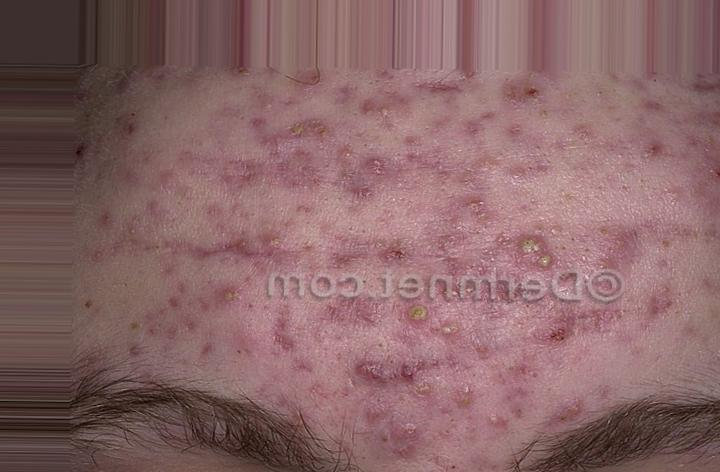Acne: (232, 196, 588, 355), (342, 367, 480, 452)
